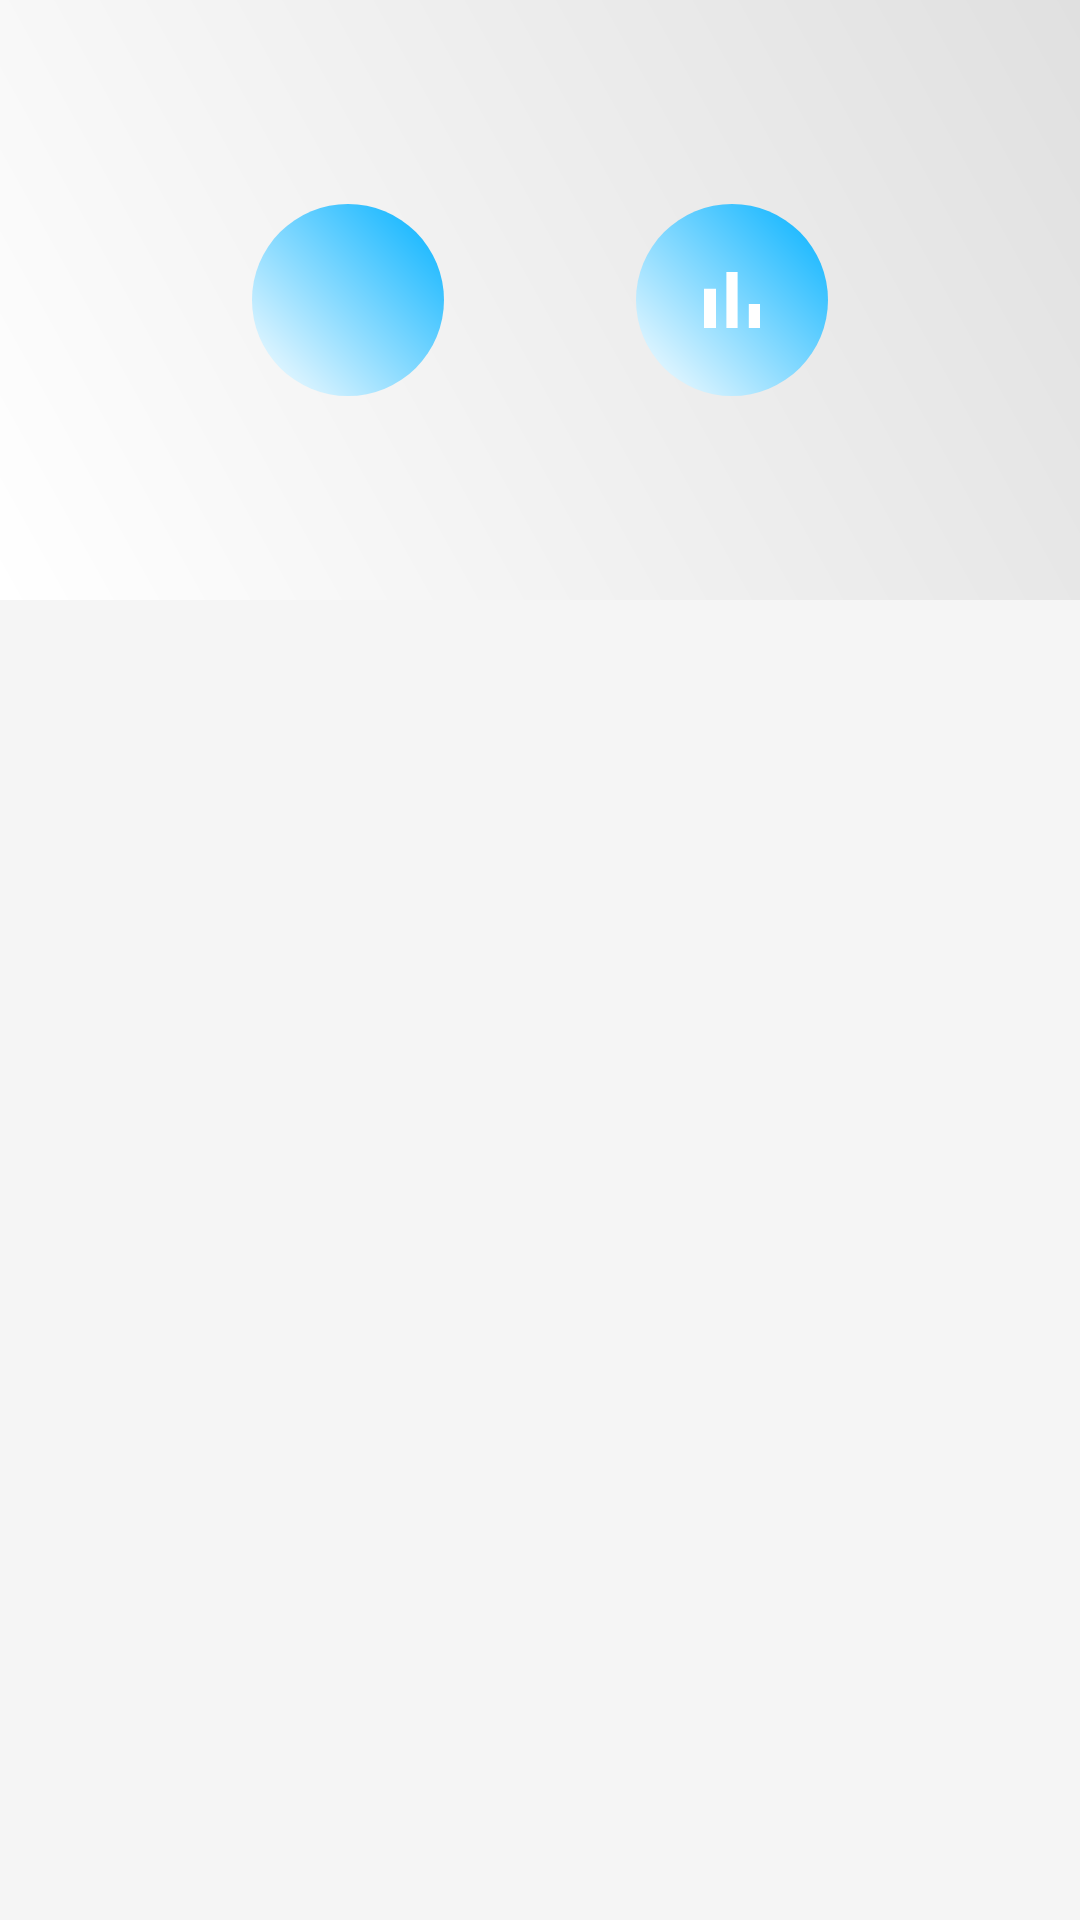

Screen size 1080px×1920px. Icon name, then its box in pixels as (x1, y1, x2, y2):
App Usage Chart: (636, 204, 828, 396)
